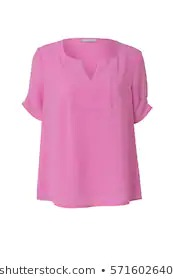C_short blouse: (22, 34, 153, 211)
